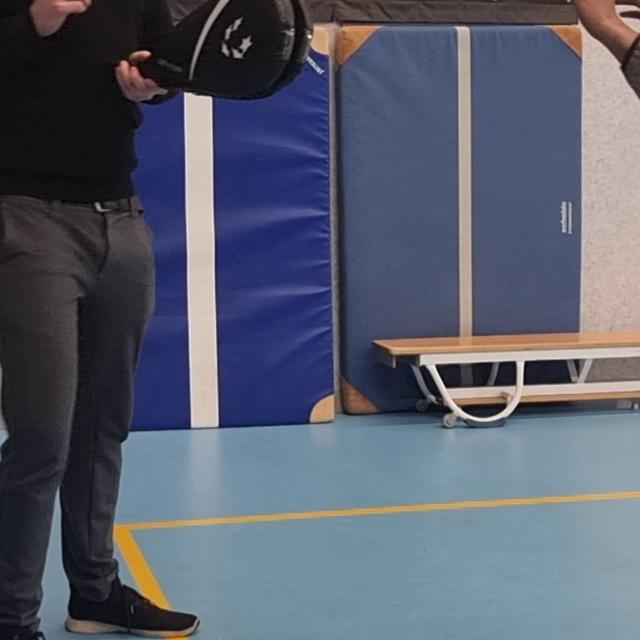paddle: (126, 0, 306, 99)
